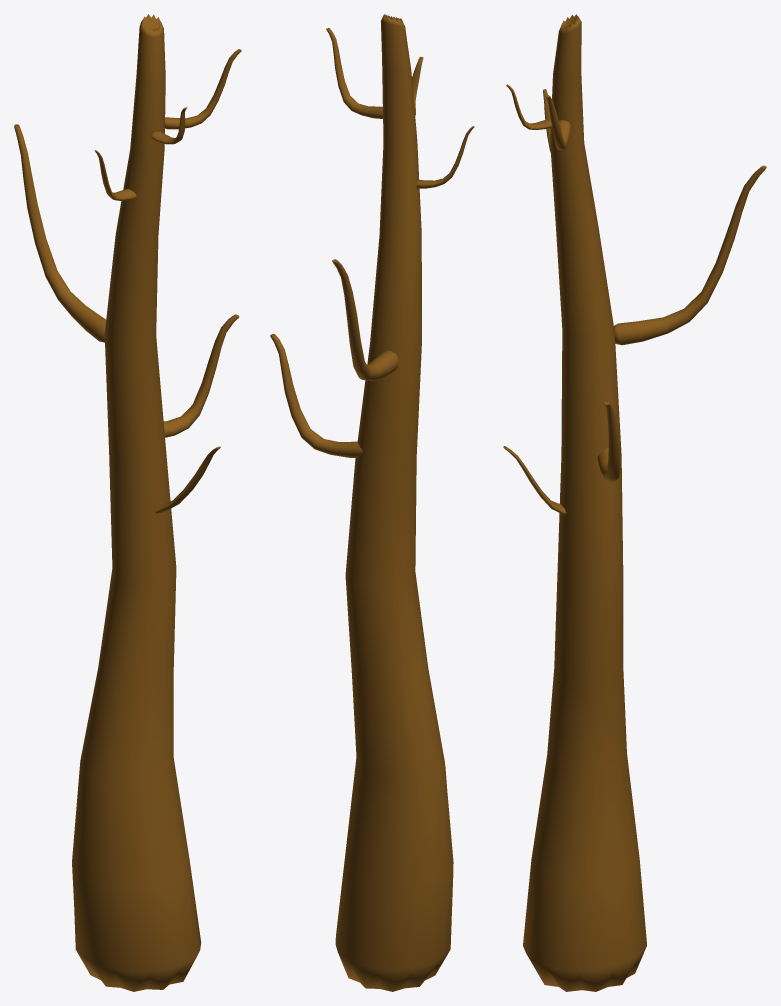
Rendered from Tree2Broken.fbx.
3 renders of one model, left to right at view 1: azimuth 30°, elevation 25°; view 2: azimuth 150°, elevation 25°; view 3: azimuth 270°, elevation 25°, orthographic.
Visible parts, largest first — view 1: pCylinder8; view 2: pCylinder8; view 3: pCylinder8.
Part boxes in pixels (x1,y1,x2,y2): pCylinder8: (14, 14, 241, 991); pCylinder8: (270, 14, 474, 991); pCylinder8: (503, 14, 766, 991).
Size of the model in its own units: 6.71 by 35.24 by 8.76.
